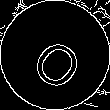O_NE: (23, 21, 87, 89)
